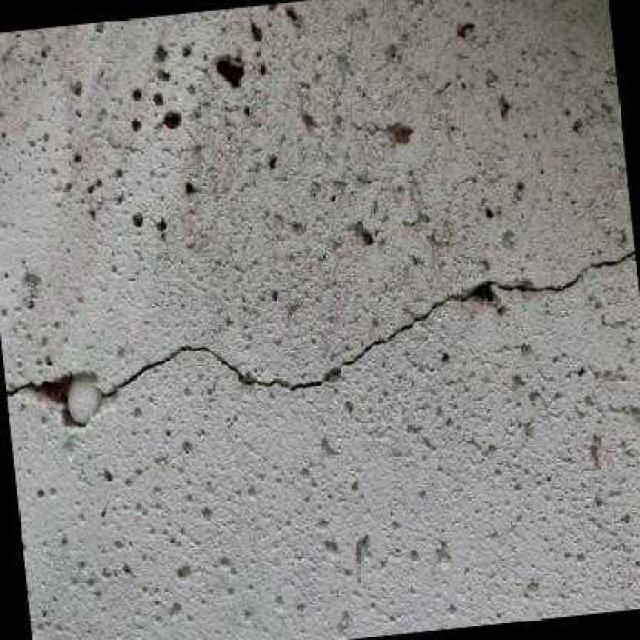D00: (5, 249, 635, 427)
